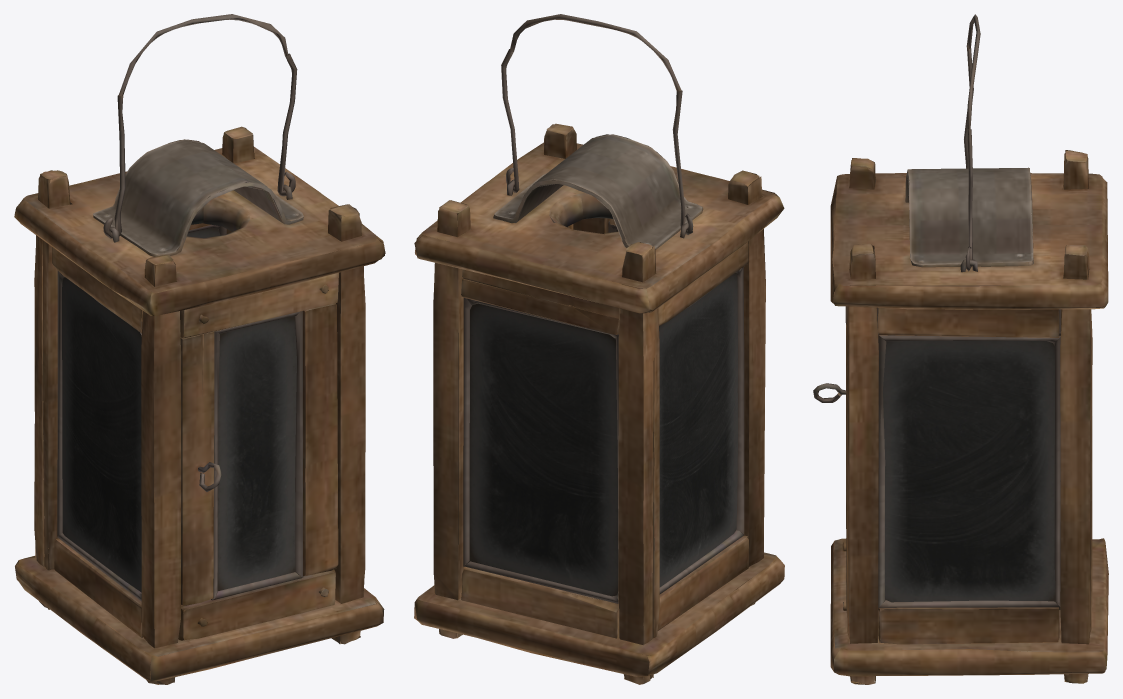
The model's file is ph_wooden_lantern_01.glb.
The picture shows the model from 3 angles, left to right: view 1: azimuth 30°, elevation 25°; view 2: azimuth 150°, elevation 25°; view 3: azimuth 270°, elevation 25°; orthographic projection.
Parts seen in each view (by area): view 1: wooden_lantern_01; view 2: wooden_lantern_01; view 3: wooden_lantern_01.
Part boxes in pixels (x1,y1,x2,y2): wooden_lantern_01: (14,14,385,684); wooden_lantern_01: (414,14,784,684); wooden_lantern_01: (813,14,1108,684).
Size of the model in its own units: 0.2213 by 0.5289 by 0.2346.
2 materials, 2 textured.
